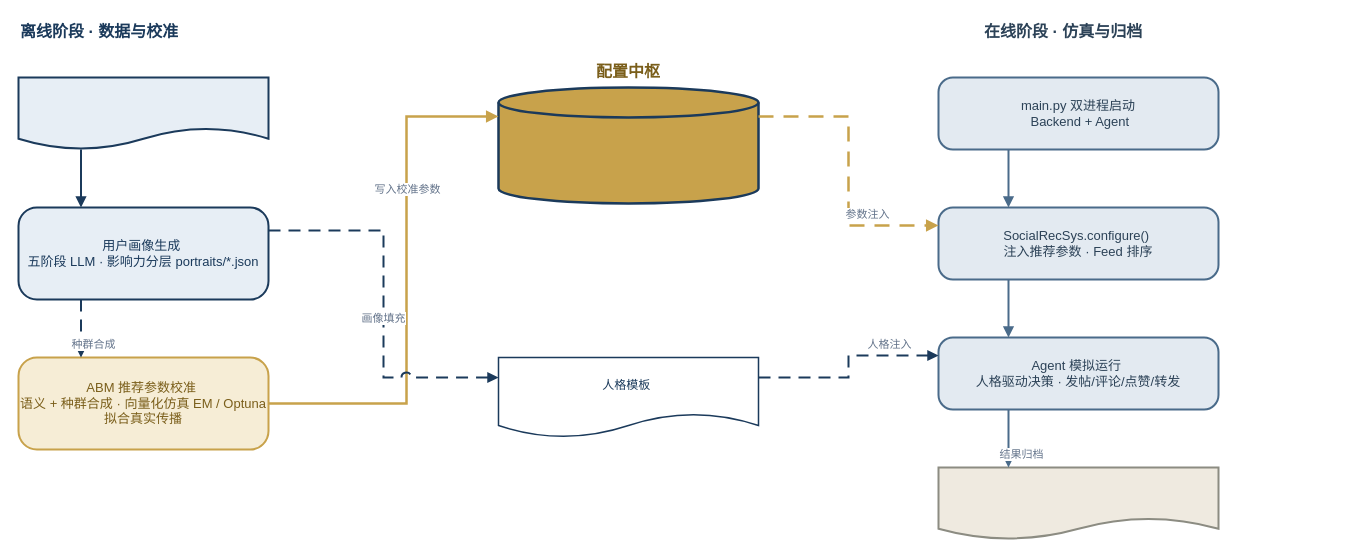
The diagram is 1359 pixels wide and 557 high, and some of its shapes have lost their labels. Each missing label, with the centre of its shape:
"calibration_profile.yaml 离线→在线唯一配置接口" goes at point (628, 145).
"runs/ 运行归档（终点） moss.db · 日志 · 指标评估 · 消融实验" goes at point (1078, 503).
"原始社交数据 user / post 表 · 内容观测 Excel" goes at point (143, 113).
